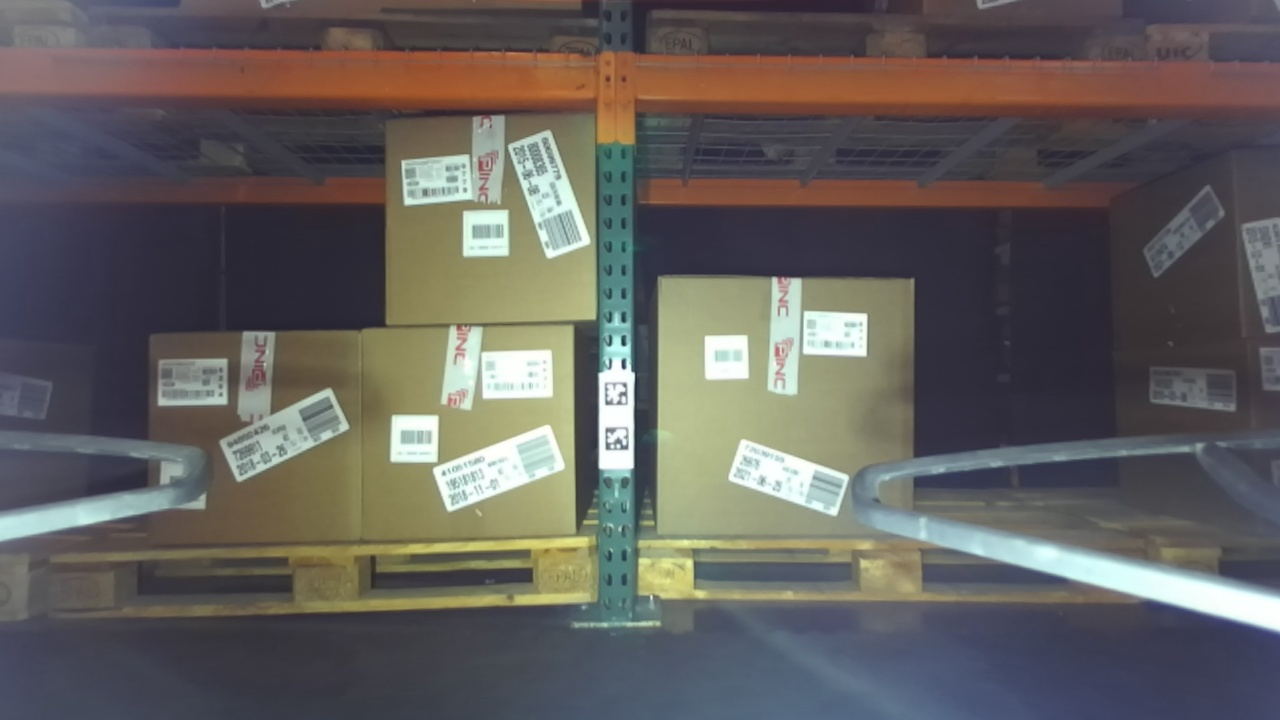box: (645, 259, 943, 561), (348, 306, 601, 560), (134, 306, 385, 559), (367, 103, 621, 346)
